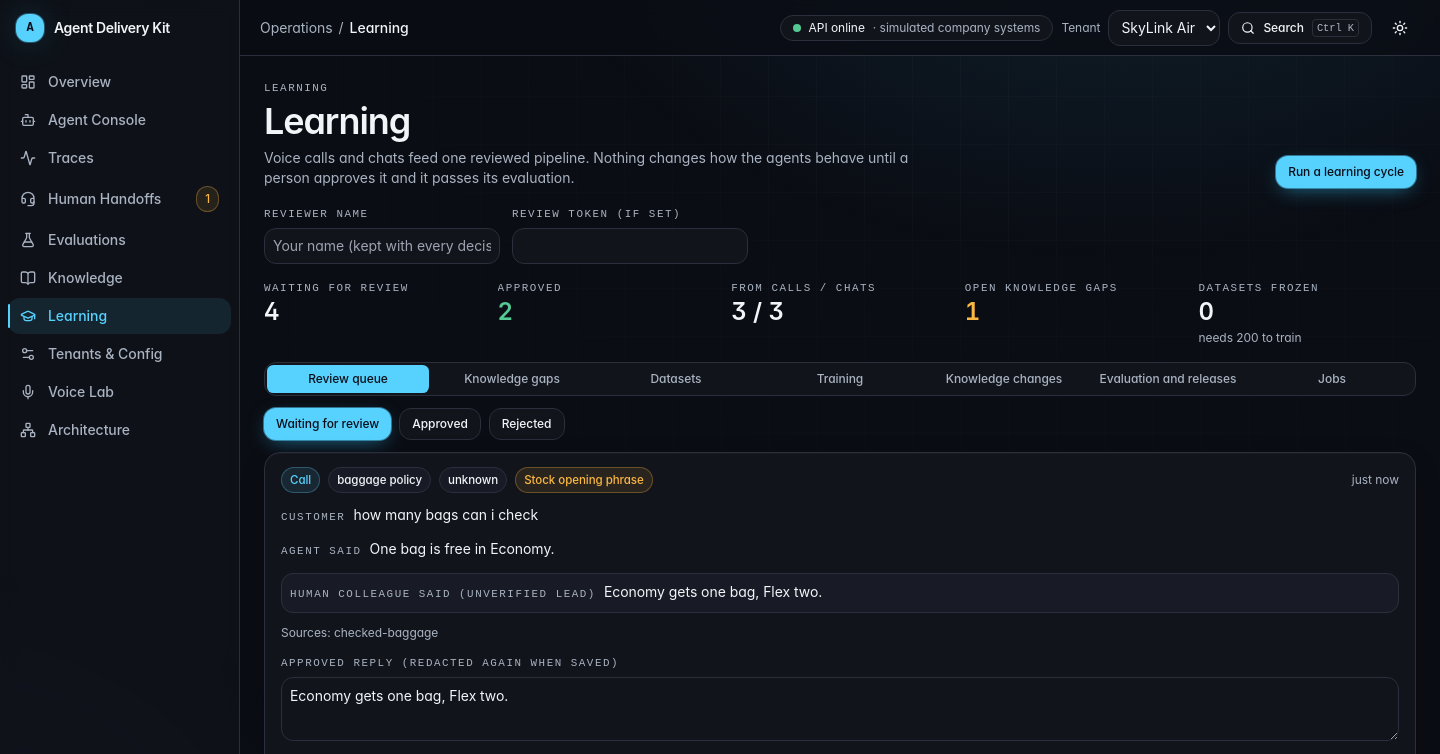
it: Learning console: training and knowledge changes › shows real job progress and offers cancel while running, resume when interrupted
The width and height of the screenshot is (1440, 754).
Step 1. Click the tab "Training" → (840, 379), box [759,365,921,393]
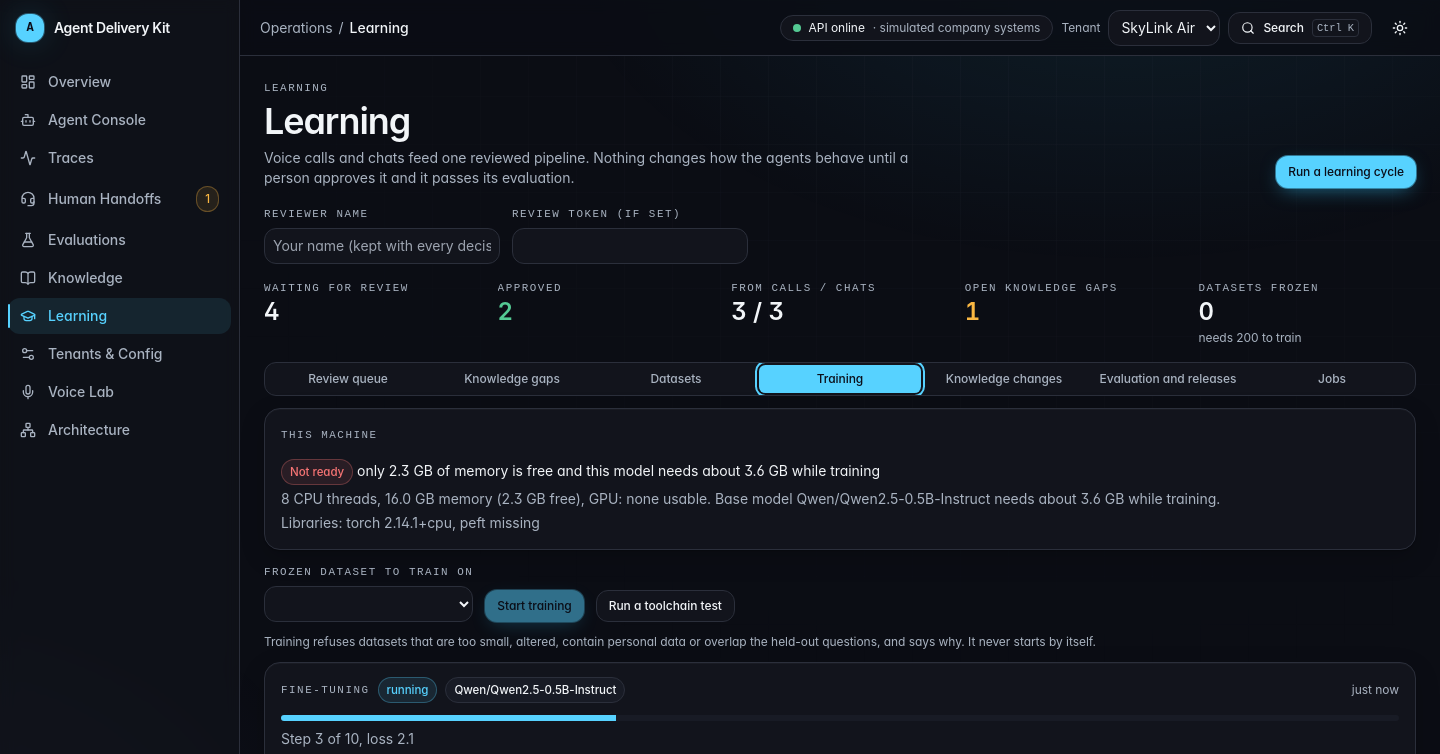
Result: the text "Step 3 of 10, loss 2.1" is shown at [281,730,414,747]
